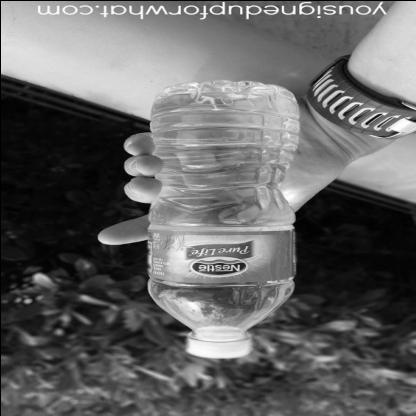plastic_bottles: (131, 75, 306, 362)
